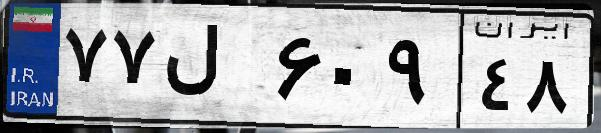0: (330, 28, 385, 110)
4: (475, 38, 525, 113)
6: (270, 28, 330, 110)
7: (57, 26, 110, 100), (110, 28, 158, 98)
8: (525, 38, 570, 115)
9: (385, 28, 445, 110)
ل: (158, 20, 270, 120)
